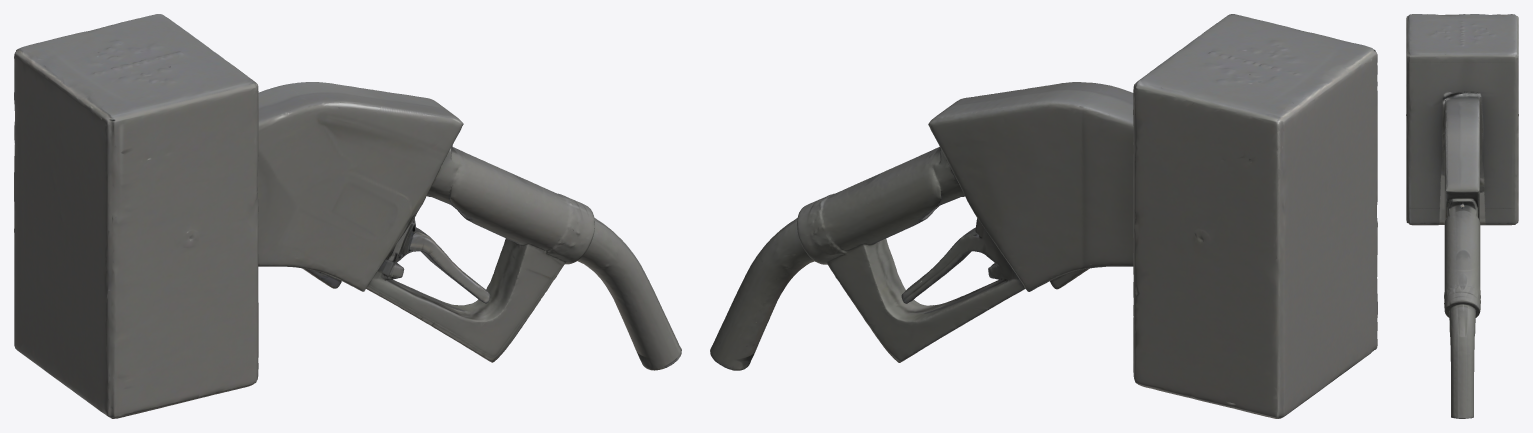
The model's file is Fuel_Nozzle_Abstract_1026015053_texture.glb.
3 views of the same model, side by side, from view 1: azimuth 30°, elevation 25°; view 2: azimuth 150°, elevation 25°; view 3: azimuth 270°, elevation 25° (orthographic). The views are drawn at different scales.
Bounding box in the file's own units: 1.9 × 1.26 × 0.5307.
Materials: 1 (1 with a texture image).
